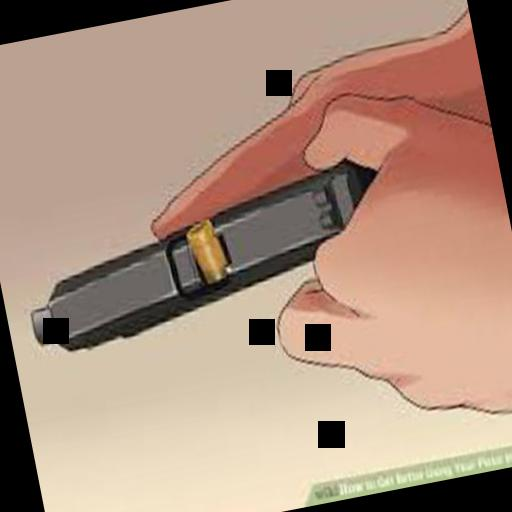Handgun: (0, 129, 419, 374)
